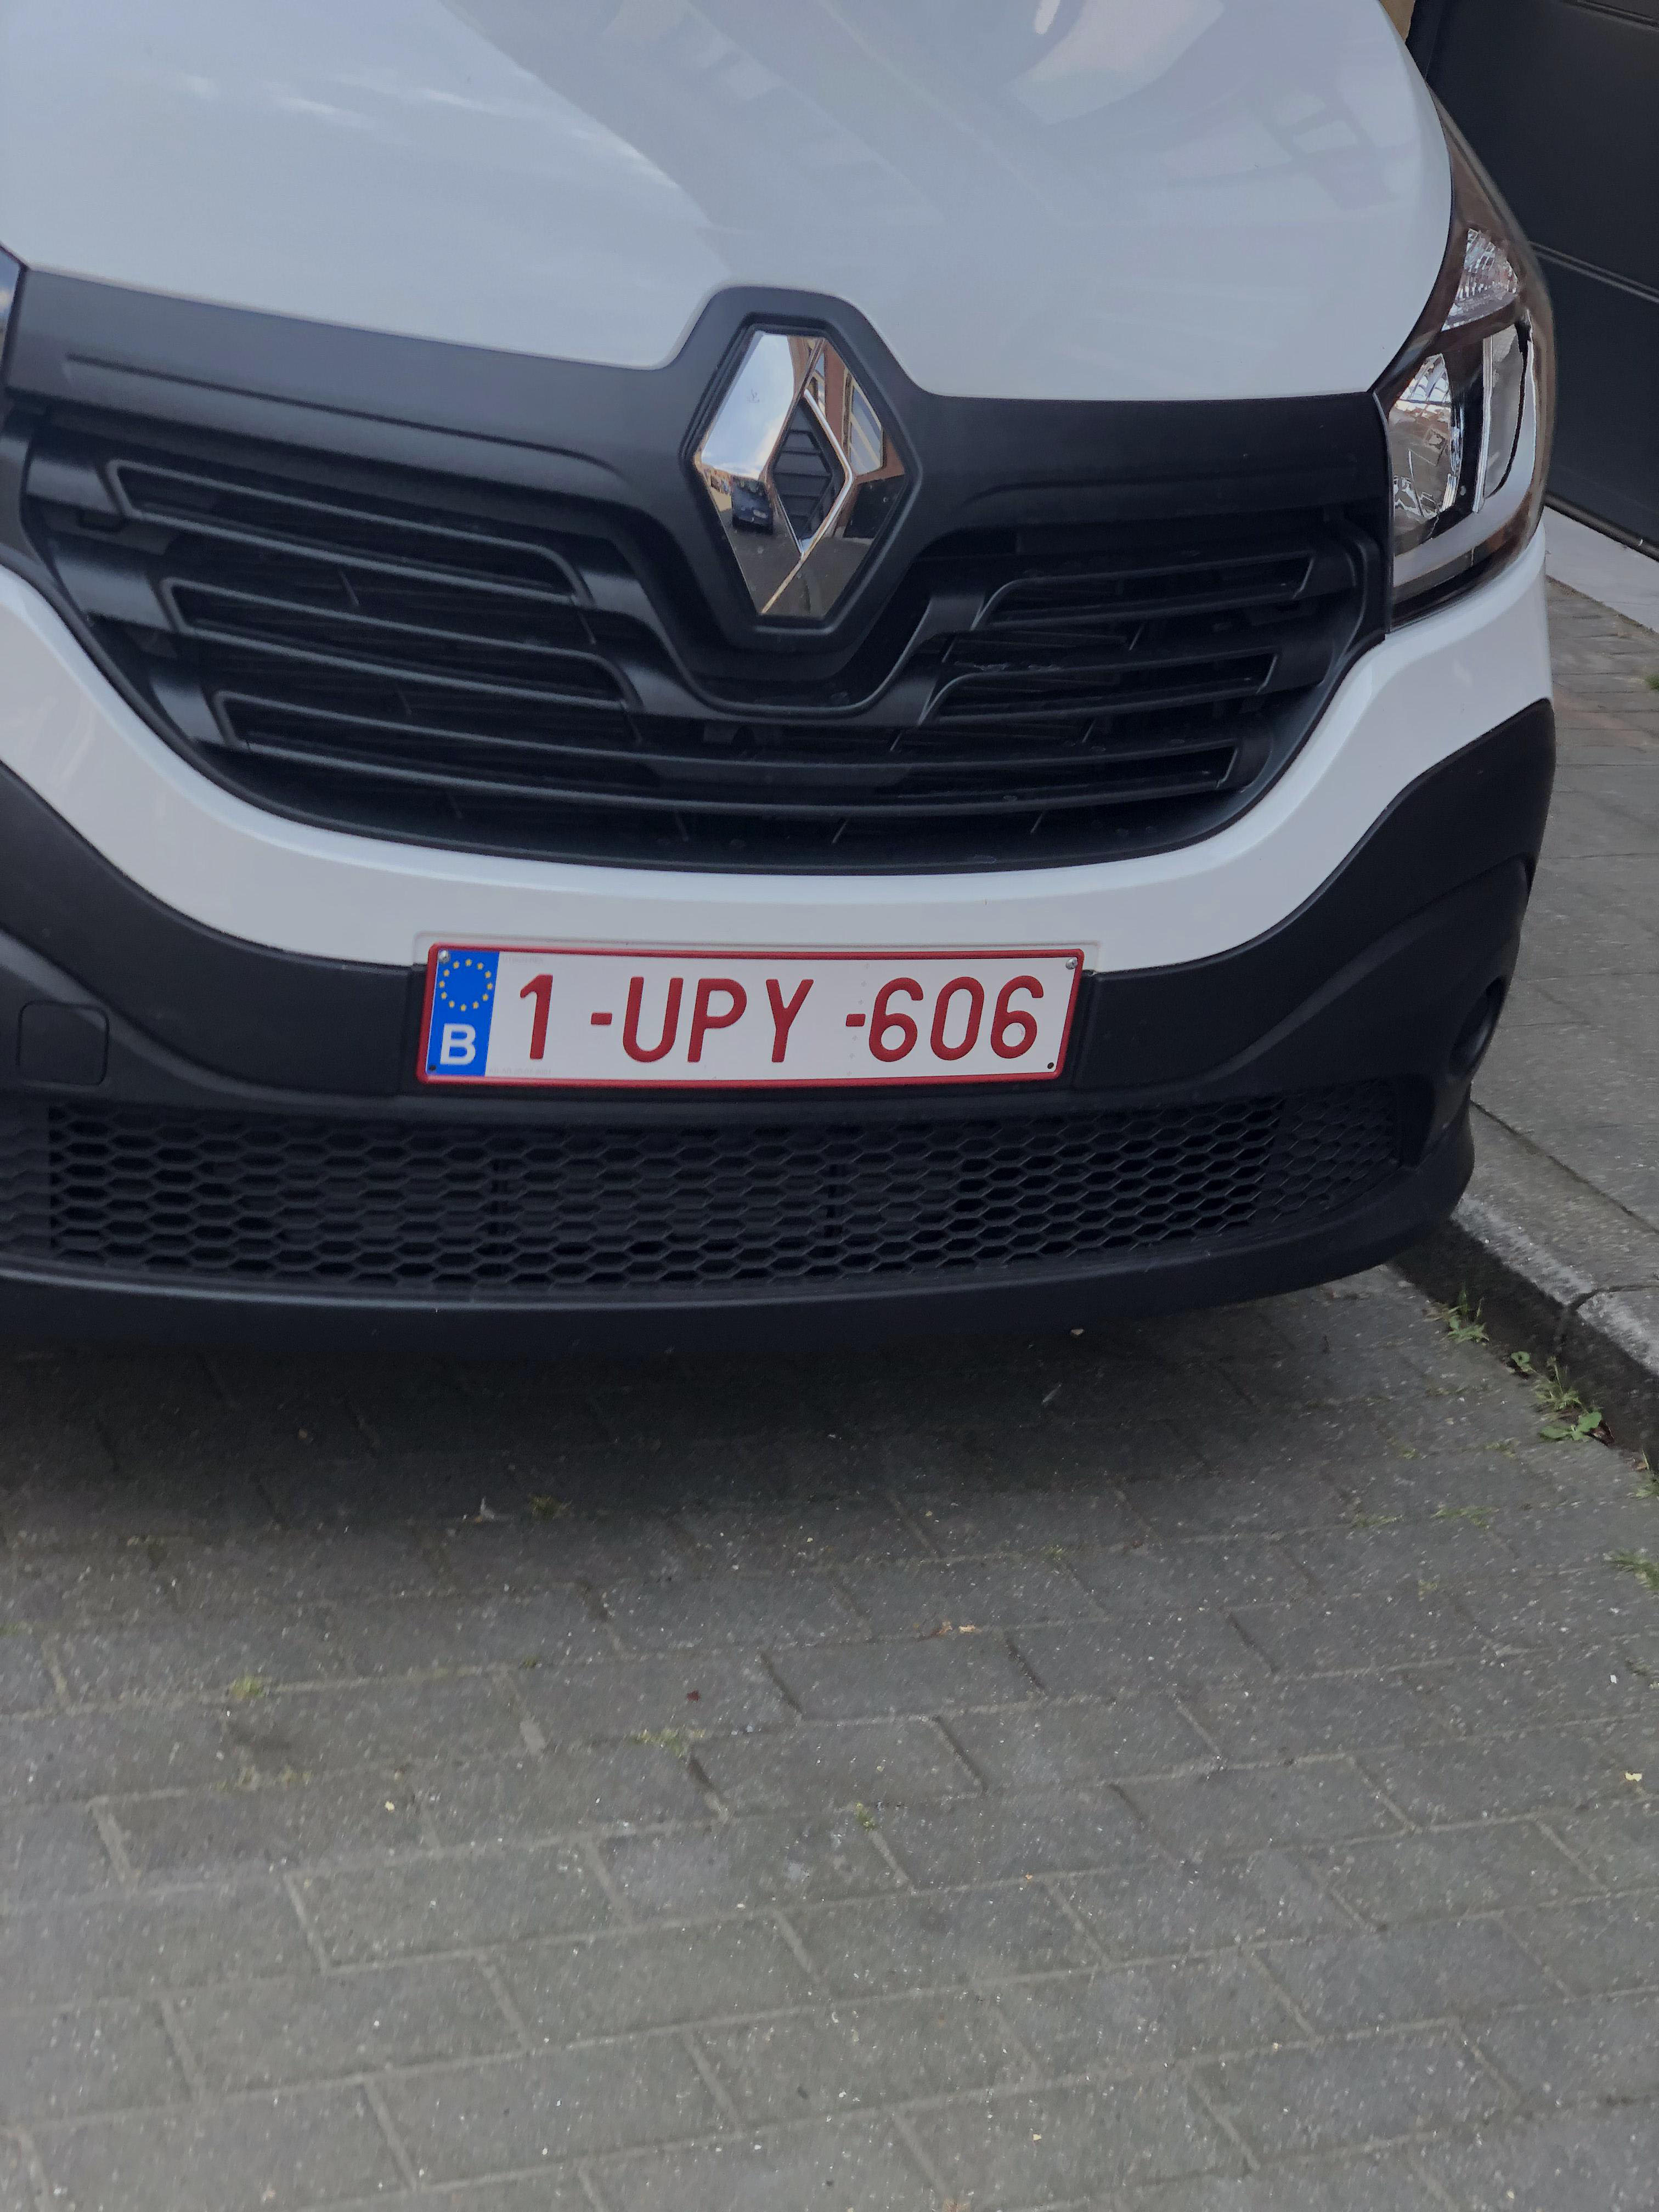plate: (565, 931, 1243, 1119)
